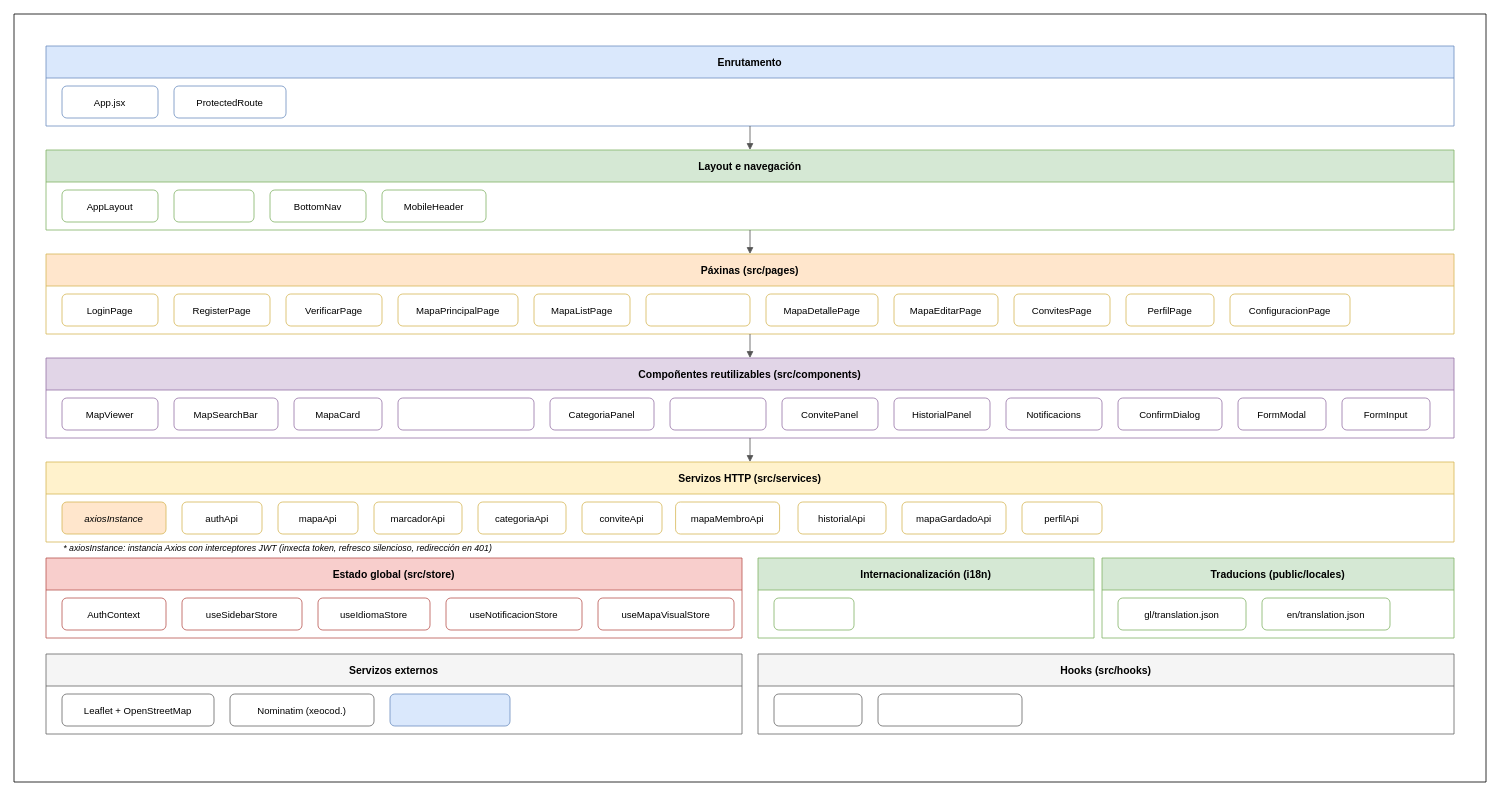
Some shapes in this 1501 by 797 pixel diagram are drawn without their labels. Here are the shapes that lost their labels. From the top down, the centre of each, then its label:
At point (213, 205): "Sidebar".
At point (697, 309): "MapaCrearPage".
At point (465, 413): "VisualizarMapasPanel".
At point (717, 413): "MembroPanel".
At point (813, 613): "i18n.js".
At point (449, 709): "Backend API REST".
At point (817, 709): "useAuth".
At point (949, 709): "usePasswordStrength".
